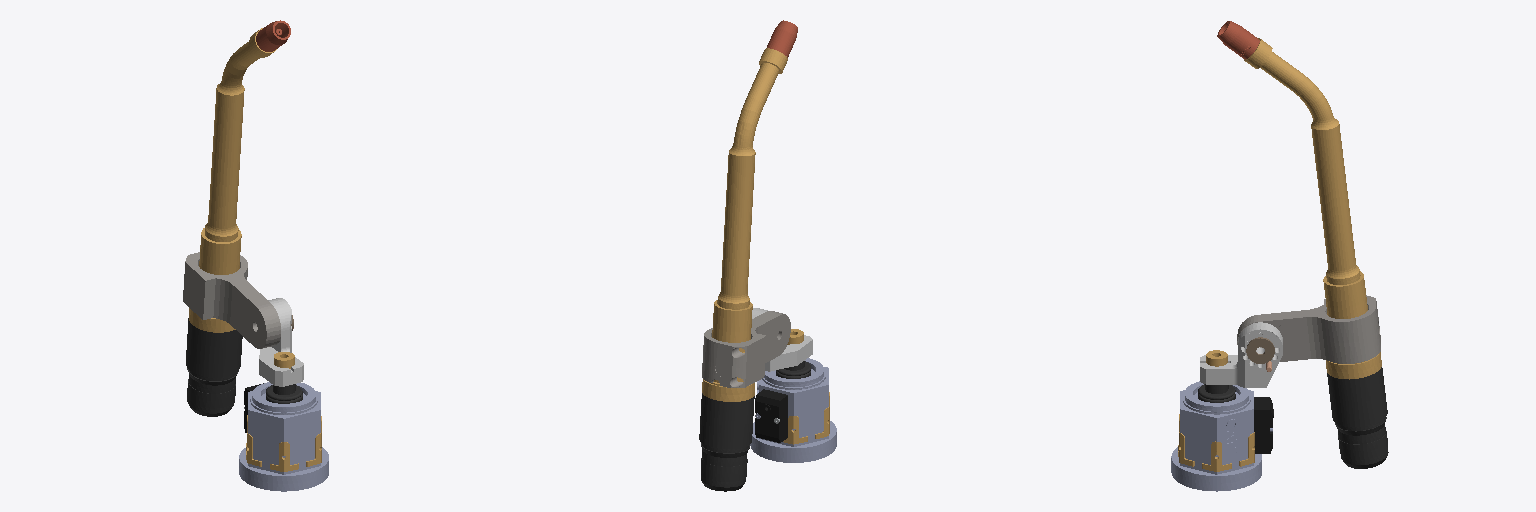
robot.urdf — welding_torch:
<?xml version="1.0"?>
<!-- created with Phobos 1.0.1 "Capricious Choutengan" -->
  <robot name="welding_torch">

    <link name="ee_joint_arm">
      <inertial>
        <origin xyz="-0.01458 -0.00585 0.05244" rpy="0 0 0"/>
        <mass value="2.0"/>
        <inertia ixx="0.00327" ixy="0.00014" ixz="0.00094" iyy="0.00162" iyz="-0.00039" izz="0.00356"/>
      </inertial>
      <visual name="Body22">
        <origin xyz="-0.02797 -0.01121 0.09982" rpy="0 0 0"/>
        <geometry>
          <mesh filename="meshes/stl/Body22.stl" scale="0.01913 0.01913 0.01913"/>
        </geometry>
        <material name="Opaque(202,209,238)"/>
      </visual>
      <collision name="Body22.000">
        <origin xyz="-0.02788 -0.01119 0.10032" rpy="0 0 0"/>
        <geometry>
          <mesh filename="meshes/stl/Body22.001.stl" scale="1.91308 1.91308 1.91308"/>
        </geometry>
      </collision>
    </link>

    <link name="nozzle_tip">
      <inertial>
        <origin xyz="-0.0157 -0.30904 -0.22158" rpy="0 0 0"/>
        <mass value="2.0"/>
        <inertia ixx="0.16219" ixy="0.0066" ixz="0.00243" iyy="0.15565" iyz="0.03243" izz="0.00723"/>
      </inertial>
      <visual name="Body28">
        <origin xyz="-0.02985 -0.59008 -0.41691" rpy="-0.92502 0 0"/>
        <geometry>
          <mesh filename="meshes/stl/Body28.stl" scale="0.01913 0.01913 0.01913"/>
        </geometry>
        <material name="Opaque(214,119,94)"/>
      </visual>
      <collision name="Body28.000">
        <origin xyz="-0.03004 -0.59122 -0.4239" rpy="-0.92502 0 0"/>
        <geometry>
          <mesh filename="meshes/stl/Body28.001.stl" scale="1.91308 1.91308 1.91308"/>
        </geometry>
      </collision>
    </link>

    <link name="root">
      <inertial>
        <origin xyz="-0.01448 -0.00427 0.02204" rpy="0 0 0"/>
        <mass value="10.0"/>
        <inertia ixx="0.03949" ixy="0.00443" ixz="-0.00364" iyy="0.02609" iyz="0.01455" izz="0.01959"/>
      </inertial>
      <visual name="Body1">
        <origin xyz="-0.02792 -0.00816 0.04271" rpy="0 0 0"/>
        <geometry>
          <mesh filename="meshes/stl/Body1.stl" scale="0.01913 0.01913 0.01913"/>
        </geometry>
        <material name="Opaque(255,255,255)"/>
      </visual>
      <visual name="Body10">
        <origin xyz="-0.02792 -0.00816 0.04271" rpy="0 0 0"/>
        <geometry>
          <mesh filename="meshes/stl/Body10.stl" scale="0.01913 0.01913 0.01913"/>
        </geometry>
        <material name="Opaque(255,206,127)"/>
      </visual>
      <visual name="Body11">
        <origin xyz="-0.02792 -0.00816 0.04271" rpy="0 0 0"/>
        <geometry>
          <mesh filename="meshes/stl/Body11.stl" scale="0.01913 0.01913 0.01913"/>
        </geometry>
        <material name="Opaque(255,206,127)"/>
      </visual>
      <visual name="Body12">
        <origin xyz="-0.02792 -0.00816 0.04271" rpy="0 0 0"/>
        <geometry>
          <mesh filename="meshes/stl/Body12.stl" scale="0.01913 0.01913 0.01913"/>
        </geometry>
        <material name="Opaque(202,209,238)"/>
      </visual>
      <visual name="Body13">
        <origin xyz="-0.02792 -0.00816 0.04271" rpy="0 0 0"/>
        <geometry>
          <mesh filename="meshes/stl/Body13.stl" scale="0.01913 0.01913 0.01913"/>
        </geometry>
        <material name="Opaque(229,234,237)"/>
      </visual>
      <visual name="Body14">
        <origin xyz="-0.02792 -0.00816 0.04271" rpy="0 0 0"/>
        <geometry>
          <mesh filename="meshes/stl/Body14.stl" scale="0.01913 0.01913 0.01913"/>
        </geometry>
        <material name="Opaque(202,209,238)"/>
      </visual>
      <visual name="Body15">
        <origin xyz="-0.02792 -0.00816 0.04271" rpy="0 0 0"/>
        <geometry>
          <mesh filename="meshes/stl/Body15.stl" scale="0.01913 0.01913 0.01913"/>
        </geometry>
        <material name="Opaque(255,206,127)"/>
      </visual>
      <visual name="Body16">
        <origin xyz="-0.02792 -0.00816 0.04271" rpy="0 0 0"/>
        <geometry>
          <mesh filename="meshes/stl/Body16.stl" scale="0.01913 0.01913 0.01913"/>
        </geometry>
        <material name="Opaque(202,209,238)"/>
      </visual>
      <visual name="Body17">
        <origin xyz="-0.02792 -0.00816 0.04271" rpy="0 0 0"/>
        <geometry>
          <mesh filename="meshes/stl/Body17.stl" scale="0.01913 0.01913 0.01913"/>
        </geometry>
        <material name="Opaque(202,209,238)"/>
      </visual>
      <visual name="Body18">
        <origin xyz="-0.02792 -0.00816 0.04271" rpy="0 0 0"/>
        <geometry>
          <mesh filename="meshes/stl/Body18.stl" scale="0.01913 0.01913 0.01913"/>
        </geometry>
        <material name="Opaque(202,209,238)"/>
      </visual>
      <visual name="Body19">
        <origin xyz="-0.02792 -0.00816 0.04271" rpy="0 0 0"/>
        <geometry>
          <mesh filename="meshes/stl/Body19.stl" scale="0.01913 0.01913 0.01913"/>
        </geometry>
        <material name="Opaque(202,209,238)"/>
      </visual>
      <visual name="Body2">
        <origin xyz="-0.02792 -0.00816 0.04271" rpy="0 0 0"/>
        <geometry>
          <mesh filename="meshes/stl/Body2.stl" scale="0.01913 0.01913 0.01913"/>
        </geometry>
        <material name="Opaque(175,155,135)"/>
      </visual>
      <visual name="Body20">
        <origin xyz="-0.02792 -0.00816 0.04271" rpy="0 0 0"/>
        <geometry>
          <mesh filename="meshes/stl/Body20.stl" scale="0.01913 0.01913 0.01913"/>
        </geometry>
        <material name="Opaque(202,209,238)"/>
      </visual>
      <visual name="Body21">
        <origin xyz="-0.02792 -0.00816 0.04271" rpy="0 0 0"/>
        <geometry>
          <mesh filename="meshes/stl/Body21.stl" scale="0.01913 0.01913 0.01913"/>
        </geometry>
        <material name="Opaque(255,206,127)"/>
      </visual>
      <visual name="Body23">
        <origin xyz="-0.02792 -0.00816 0.04271" rpy="0 0 0"/>
        <geometry>
          <mesh filename="meshes/stl/Body23.stl" scale="0.01913 0.01913 0.01913"/>
        </geometry>
        <material name="Opaque(76,76,76)"/>
      </visual>
      <visual name="Body24">
        <origin xyz="-0.02792 -0.00816 0.04271" rpy="0 0 0"/>
        <geometry>
          <mesh filename="meshes/stl/Body24.stl" scale="0.01913 0.01913 0.01913"/>
        </geometry>
        <material name="Opaque(255,206,127)"/>
      </visual>
      <visual name="Body25">
        <origin xyz="-0.02792 -0.00816 0.04271" rpy="0 0 0"/>
        <geometry>
          <mesh filename="meshes/stl/Body25.stl" scale="0.01913 0.01913 0.01913"/>
        </geometry>
        <material name="Opaque(76,76,76)"/>
      </visual>
      <visual name="Body26">
        <origin xyz="-0.02792 -0.00816 0.04271" rpy="0 0 0"/>
        <geometry>
          <mesh filename="meshes/stl/Body26.stl" scale="0.01913 0.01913 0.01913"/>
        </geometry>
        <material name="Opaque(198,178,163)"/>
      </visual>
      <visual name="Body27">
        <origin xyz="-0.02792 -0.00816 0.04271" rpy="0 0 0"/>
        <geometry>
          <mesh filename="meshes/stl/Body27.stl" scale="0.01913 0.01913 0.01913"/>
        </geometry>
        <material name="Opaque(214,119,94)"/>
      </visual>
      <visual name="Body3">
        <origin xyz="-0.02792 -0.00816 0.04271" rpy="0 0 0"/>
        <geometry>
          <mesh filename="meshes/stl/Body3.stl" scale="0.01913 0.01913 0.01913"/>
        </geometry>
        <material name="Opaque(198,193,188)"/>
      </visual>
      <visual name="Body4">
        <origin xyz="-0.02792 -0.00816 0.04271" rpy="0 0 0"/>
        <geometry>
          <mesh filename="meshes/stl/Body4.stl" scale="0.01913 0.01913 0.01913"/>
        </geometry>
        <material name="Opaque(255,199,168)"/>
      </visual>
      <visual name="Body5">
        <origin xyz="-0.02792 -0.00816 0.04271" rpy="0 0 0"/>
        <geometry>
          <mesh filename="meshes/stl/Body5.stl" scale="0.01913 0.01913 0.01913"/>
        </geometry>
        <material name="Opaque(202,209,238)"/>
      </visual>
      <visual name="Body6">
        <origin xyz="-0.02792 -0.00816 0.04271" rpy="0 0 0"/>
        <geometry>
          <mesh filename="meshes/stl/Body6.stl" scale="0.01913 0.01913 0.01913"/>
        </geometry>
        <material name="Opaque(51,51,51)"/>
      </visual>
      <visual name="Body7">
        <origin xyz="-0.02792 -0.00816 0.04271" rpy="0 0 0"/>
        <geometry>
          <mesh filename="meshes/stl/Body7.stl" scale="0.01913 0.01913 0.01913"/>
        </geometry>
        <material name="Opaque(255,206,127)"/>
      </visual>
      <visual name="Body8">
        <origin xyz="-0.02792 -0.00816 0.04271" rpy="0 0 0"/>
        <geometry>
          <mesh filename="meshes/stl/Body8.stl" scale="0.01913 0.01913 0.01913"/>
        </geometry>
        <material name="Opaque(255,206,127)"/>
      </visual>
      <visual name="Body9">
        <origin xyz="-0.02792 -0.00816 0.04271" rpy="0 0 0"/>
        <geometry>
          <mesh filename="meshes/stl/Body9.stl" scale="0.01913 0.01913 0.01913"/>
        </geometry>
        <material name="Opaque(255,206,127)"/>
      </visual>
      <collision name="Body1.000">
        <origin xyz="-0.02694 -0.00899 0.04304" rpy="0 0 0"/>
        <geometry>
          <mesh filename="meshes/stl/Body1.001.stl" scale="1.91308 1.91308 1.91308"/>
        </geometry>
      </collision>
      <collision name="Body23.000">
        <origin xyz="-0.03031 -0.00834 0.0425" rpy="0 0 0"/>
        <geometry>
          <mesh filename="meshes/stl/Body23.001.stl" scale="1.91308 1.91308 1.91308"/>
        </geometry>
      </collision>
      <collision name="Body24.000">
        <origin xyz="-0.0283 -0.00808 0.0441" rpy="0 0 0"/>
        <geometry>
          <mesh filename="meshes/stl/Body24.001.stl" scale="1.91308 1.91308 1.91308"/>
        </geometry>
      </collision>
      <collision name="Body25.000">
        <origin xyz="-0.02798 -0.00886 0.05092" rpy="0 0 0"/>
        <geometry>
          <mesh filename="meshes/stl/Body25.001.stl" scale="1.91308 1.91308 1.91308"/>
        </geometry>
      </collision>
      <collision name="Body3.000">
        <origin xyz="-0.02695 -0.00714 0.04028" rpy="0 0 0"/>
        <geometry>
          <mesh filename="meshes/stl/Body3.001.stl" scale="1.91308 1.91308 1.91308"/>
        </geometry>
      </collision>
      <collision name="Body5.000">
        <origin xyz="-0.02659 -0.00839 0.04212" rpy="0 0 0"/>
        <geometry>
          <mesh filename="meshes/stl/Body5.001.stl" scale="1.91308 1.91308 1.91308"/>
        </geometry>
      </collision>
      <collision name="Body6.000">
        <origin xyz="-0.02771 -0.00796 0.04287" rpy="0 0 0"/>
        <geometry>
          <mesh filename="meshes/stl/Body6.001.stl" scale="1.91308 1.91308 1.91308"/>
        </geometry>
      </collision>
    </link>

    <joint name="ee_joint_arm" type="fixed">
      <origin xyz="5e-05 0.00304 -0.05711" rpy="0 0 0"/>
      <parent link="root"/>
      <child link="ee_joint_arm"/>
    </joint>

    <joint name="nozzle_tip" type="fixed">
      <origin xyz="0.00193 0.01399 0.76487" rpy="0.92502 0 0"/>
      <parent link="root"/>
      <child link="nozzle_tip"/>
    </joint>

    <material name="Opaque(175,155,135)">
      <color rgba="0.54902 0.48627 0.42353 1.0"/>
    </material>

    <material name="Opaque(198,178,163)">
      <color rgba="0.62118 0.55843 0.51137 1.0"/>
    </material>

    <material name="Opaque(198,193,188)">
      <color rgba="0.62118 0.60549 0.5898 1.0"/>
    </material>

    <material name="Opaque(202,209,238)">
      <color rgba="0.63373 0.65569 0.74667 1.0"/>
    </material>

    <material name="Opaque(214,119,94)">
      <color rgba="0.67137 0.37333 0.2949 1.0"/>
    </material>

    <material name="Opaque(229,234,237)">
      <color rgba="0.71843 0.73412 0.74353 1.0"/>
    </material>

    <material name="Opaque(255,199,168)">
      <color rgba="0.8 0.62431 0.52706 1.0"/>
    </material>

    <material name="Opaque(255,206,127)">
      <color rgba="0.8 0.64627 0.39843 1.0"/>
    </material>

    <material name="Opaque(255,255,255)">
      <color rgba="0.8 0.8 0.8 1.0"/>
    </material>

    <material name="Opaque(51,51,51)">
      <color rgba="0.16 0.16 0.16 1.0"/>
    </material>

    <material name="Opaque(76,76,76)">
      <color rgba="0.23843 0.23843 0.23843 1.0"/>
    </material>

  </robot>

--- Facts derived from the render (not from the file) ---
Views: 3 orthographic renders of the robot side by side, from view 1: azimuth 30°, elevation 25°; view 2: azimuth 150°, elevation 25°; view 3: azimuth 270°, elevation 25°.
Model welding_torch with 3 links and 2 joints (2 fixed), rooted at root, posed every joint at zero.
Links seen in each view (by area): view 1: root, ee_joint_arm, nozzle_tip; view 2: root, ee_joint_arm, nozzle_tip; view 3: root, ee_joint_arm, nozzle_tip.
Boxes of the visible links, bbox=[...] form: root: bbox=[183, 28, 321, 474]; ee_joint_arm: bbox=[239, 447, 328, 491]; nozzle_tip: bbox=[256, 20, 290, 51]; root: bbox=[699, 48, 829, 491]; ee_joint_arm: bbox=[750, 421, 836, 462]; nozzle_tip: bbox=[767, 20, 797, 57]; root: bbox=[1178, 38, 1388, 474]; ee_joint_arm: bbox=[1171, 447, 1261, 491]; nozzle_tip: bbox=[1217, 21, 1259, 59].
Bounding box of the posed robot: 0.153 × 0.3655 × 0.8374 m (x, y, z).
Meshes: 28 distinct files referenced, 28 mesh visuals loaded (28 binary STL).